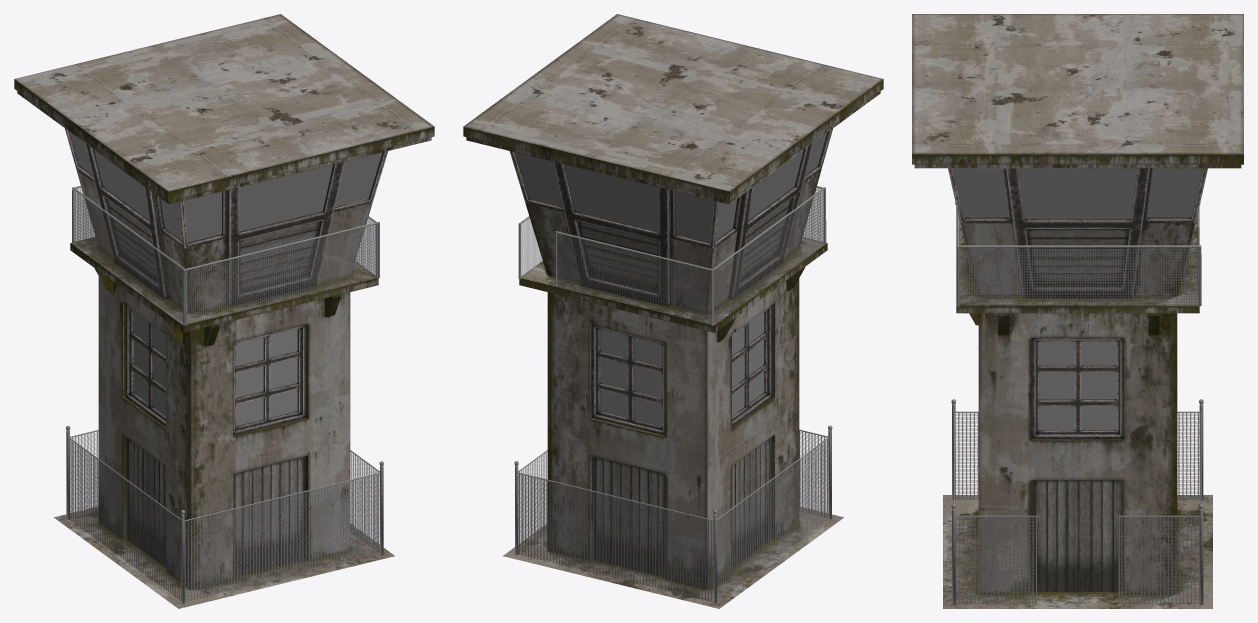
Rendered from watchtower_gamereadylowpoly.glb.
3 views of the same model, side by side, from view 1: azimuth 30°, elevation 25°; view 2: azimuth 150°, elevation 25°; view 3: azimuth 270°, elevation 25° (orthographic). The views are drawn at different scales.
Parts seen in each view (by area): view 1: Plane_0, Cube.003_4, Cube.005_7, Cube.002_3, Cube.006_6, Cube_1, Cube.004_5, Cube.007_8, Cube.008_9; view 2: Plane_0, Cube_1, Cube.002_3, Cube.008_9, Cube.006_6, Cube.004_5, Cube.003_4, Cube.007_8, Cube.005_7; view 3: Plane_0, Cube.004_5, Cube.007_8, Cube.002_3, Cube.003_4, Cube_1, Cube.001_2.
Boxes of the visible parts, x1,y1,x2,y2 form: Plane_0: (14, 14, 434, 608); Cube.003_4: (184, 461, 383, 602); Cube.005_7: (183, 221, 379, 324); Cube.002_3: (69, 437, 184, 603); Cube.006_6: (72, 187, 186, 325); Cube_1: (66, 426, 98, 519); Cube.004_5: (350, 450, 379, 552); Cube.007_8: (355, 216, 377, 277); Cube.008_9: (72, 185, 95, 243); Plane_0: (463, 14, 883, 608); Cube_1: (518, 472, 717, 603); Cube.002_3: (717, 425, 832, 600); Cube.008_9: (555, 231, 713, 324); Cube.006_6: (711, 187, 825, 325); Cube.004_5: (518, 450, 547, 551); Cube.003_4: (799, 429, 828, 517); Cube.007_8: (518, 216, 542, 279); Cube.005_7: (803, 186, 826, 243); Plane_0: (912, 14, 1243, 608); Cube.004_5: (955, 515, 1199, 604); Cube.007_8: (956, 245, 1201, 306); Cube.002_3: (951, 399, 1199, 500); Cube.003_4: (951, 412, 956, 605); Cube_1: (1199, 399, 1203, 503); Cube.001_2: (1199, 504, 1203, 605).
Size of the model in its own units: 1.99 by 3.1 by 1.99.
6 materials, 4 textured.
